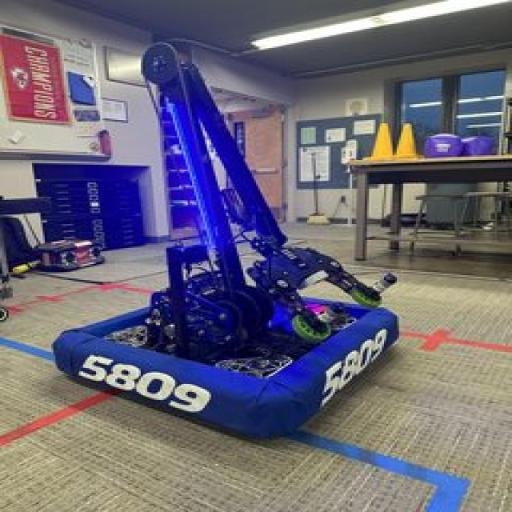robot: (34, 50, 416, 454)
